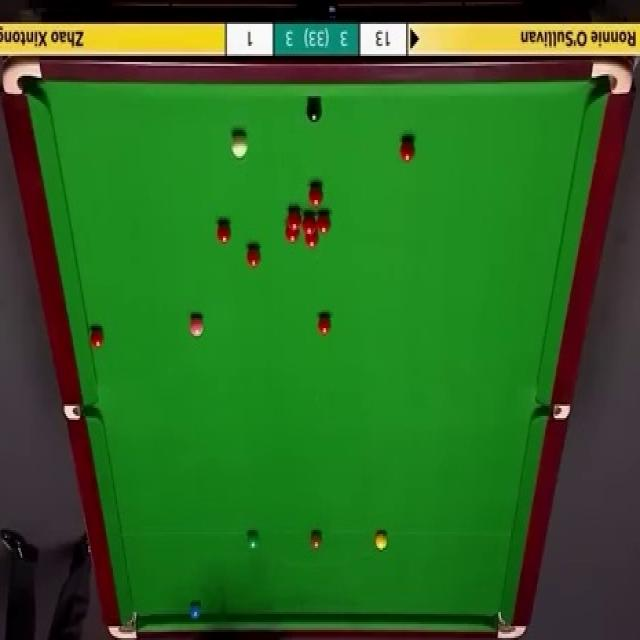pocket: (0, 56, 43, 98), (589, 60, 636, 95), (106, 608, 140, 640), (495, 611, 529, 640), (536, 403, 572, 419), (64, 405, 98, 420)
